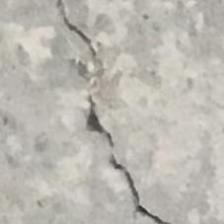Crack: (52, 0, 196, 224)
